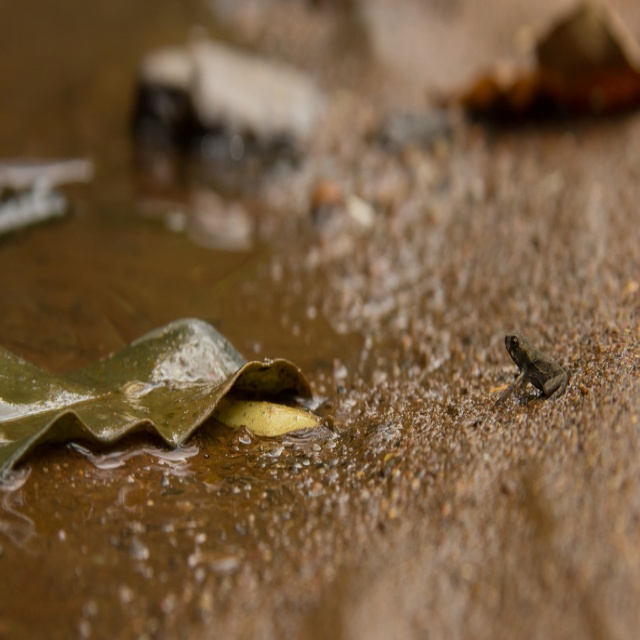Frog: (495, 328, 571, 402)
